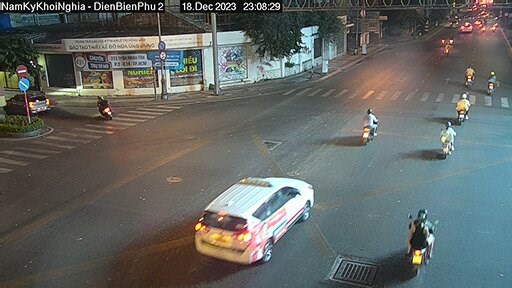car: (187, 166, 322, 265), (6, 86, 50, 114)
motorbike: (392, 207, 443, 274), (427, 119, 461, 165), (353, 108, 385, 144), (447, 95, 478, 125), (88, 94, 120, 118), (457, 63, 485, 90), (435, 31, 459, 56), (484, 70, 506, 96)
